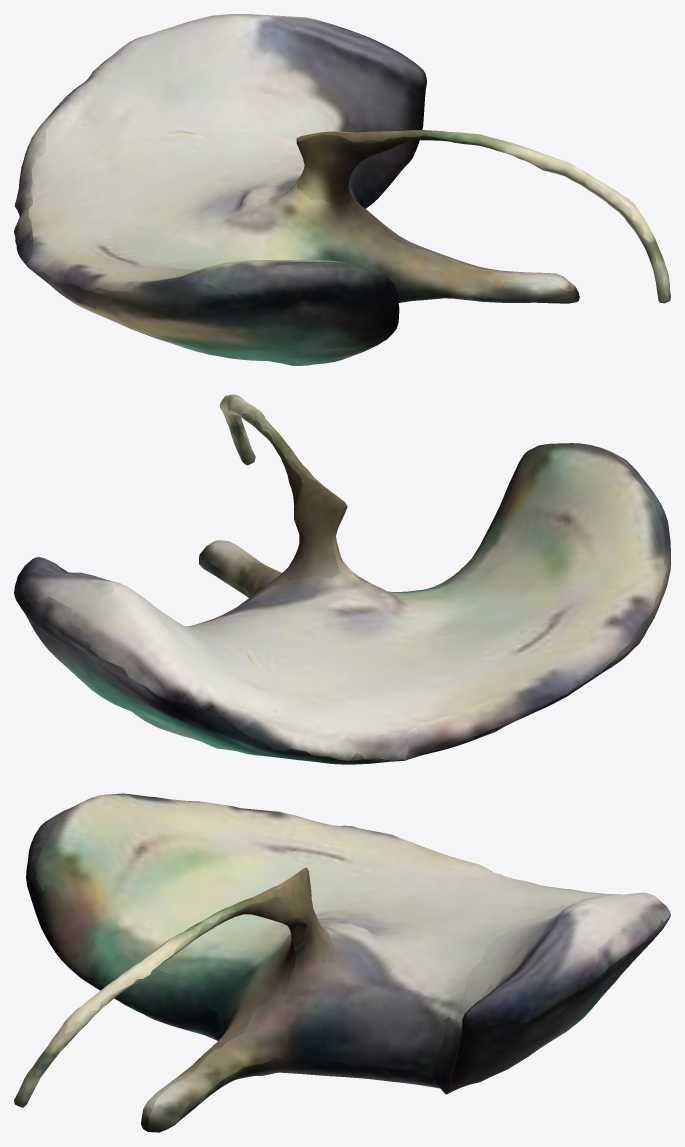
3 views of the same model, one above another, from view 1: azimuth 30°, elevation 25°; view 2: azimuth 150°, elevation 25°; view 3: azimuth 270°, elevation 25° (orthographic). The views are drawn at different scales.
Parts seen in each view (by area): view 1: world; view 2: world; view 3: world.
Boxes of the visible parts, x1,y1,x2,y2 form: world: [14, 14, 670, 365]; world: [14, 394, 670, 764]; world: [14, 793, 670, 1132].
Size of the model in its own units: 0.4527 by 0.1735 by 0.5117.
1 material, 1 textured.
